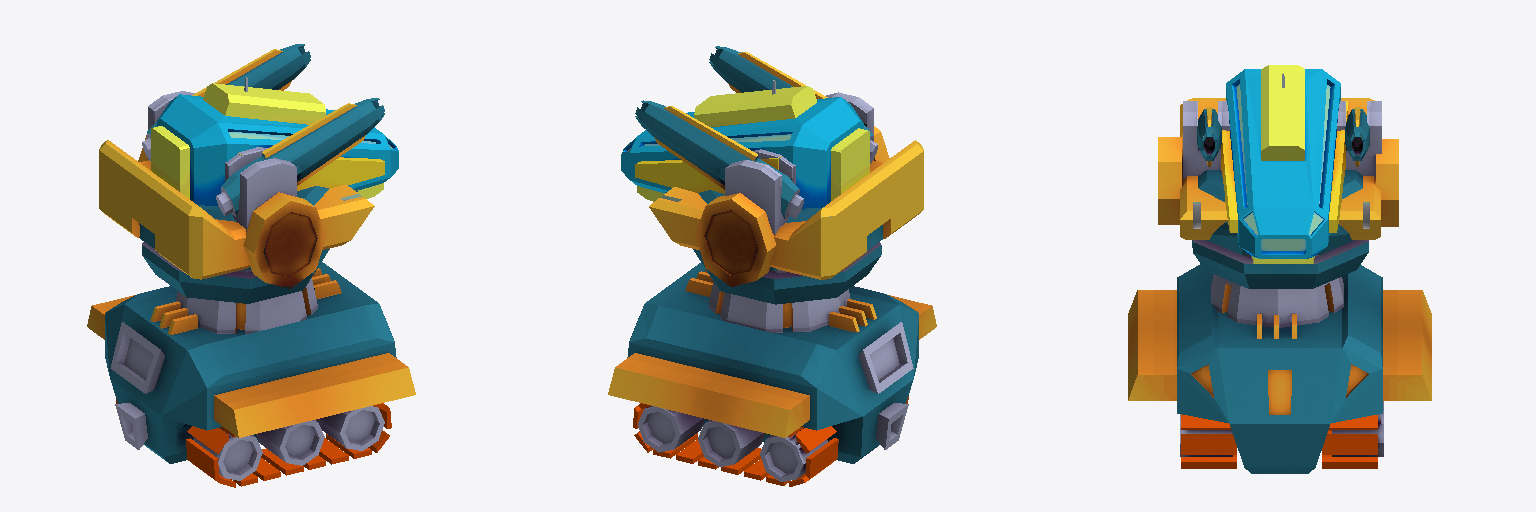
3 views of the same model, side by side, from view 1: azimuth 30°, elevation 25°; view 2: azimuth 150°, elevation 25°; view 3: azimuth 270°, elevation 25° (orthographic).
Visible parts, largest first — view 1: Object008, Object014, Box009, Box017; view 2: Object008, Object014, Box009, Box016; view 3: Object008, Box017, Box016, Object014, Box009.
Boxes of the visible parts, box(x1,y1,x2,y2) form: Object008: box(87, 83, 415, 463); Object014: box(142, 44, 384, 216); Box009: box(193, 406, 384, 480); Box017: box(186, 403, 391, 487); Object008: box(608, 86, 936, 463); Object014: box(635, 46, 877, 218); Box009: box(638, 406, 827, 481); Box016: box(633, 403, 838, 486); Object008: box(1128, 65, 1431, 473); Box017: box(1181, 414, 1236, 468); Box016: box(1322, 415, 1377, 468); Object014: box(1197, 107, 1369, 166); Box009: box(1180, 401, 1383, 456).
Size of the model in its own units: 65.77 by 85.79 by 66.14.
4 materials, 2 textured.